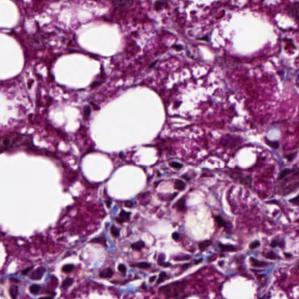inflammation: (216, 236, 294, 274), (150, 160, 191, 214), (24, 263, 83, 298), (99, 206, 139, 239)
